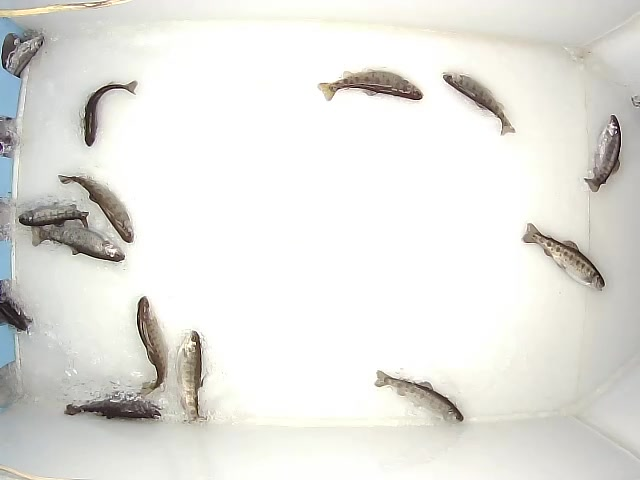fish: (519, 218, 612, 294), (438, 69, 520, 138), (59, 172, 134, 243), (374, 366, 463, 425), (82, 79, 142, 149), (29, 224, 128, 266), (316, 68, 424, 105), (131, 295, 167, 400), (174, 327, 208, 425), (583, 114, 622, 194), (62, 395, 162, 424), (18, 199, 94, 231)
